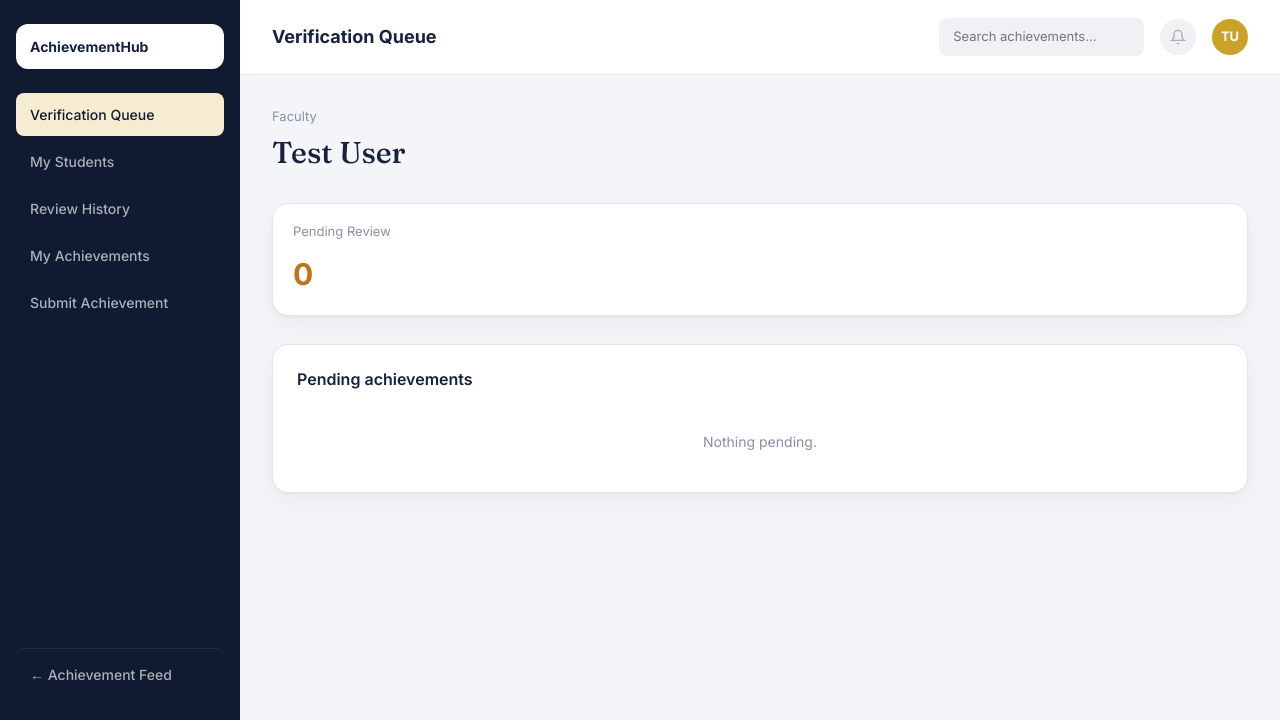
Test case: Review History availability › opens a working history panel for faculty
Click the button "Review History". click: (120, 208)
box: 16,187 -> 224,230
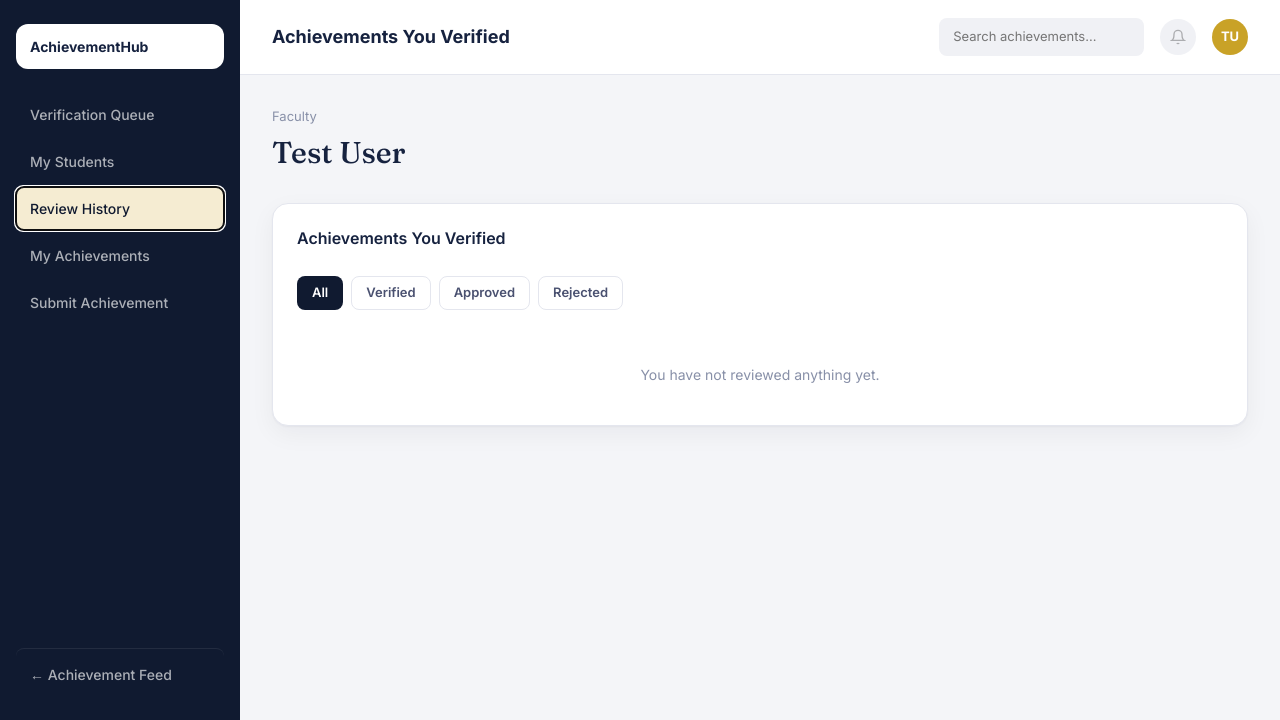
Now the heading "Achievements You Verified" is shown, box 297,226 -> 506,250
